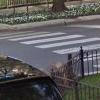Crosswalk: (5, 25, 87, 58)
